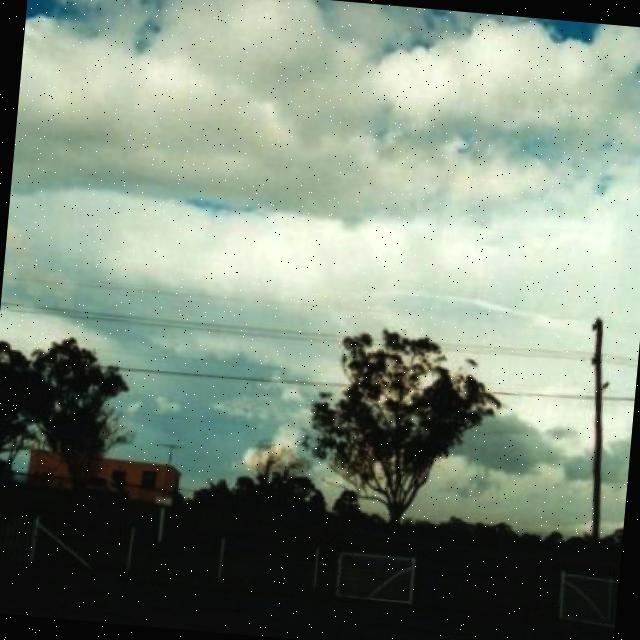St: (6, 1, 640, 306)
